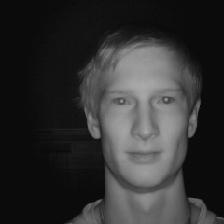normal: (70, 24, 210, 188)
